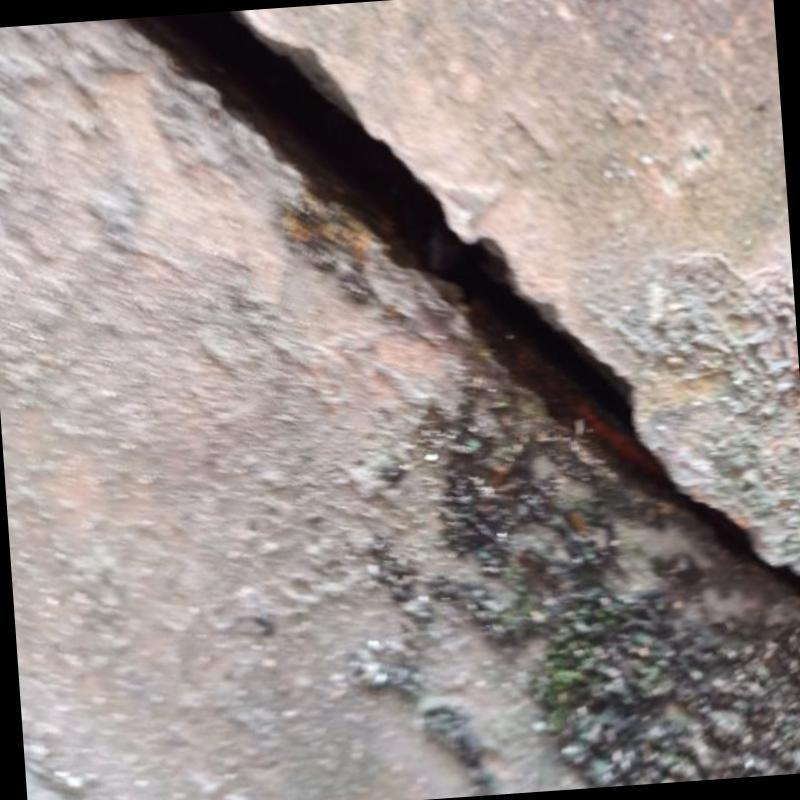pothole: (129, 11, 800, 592)
